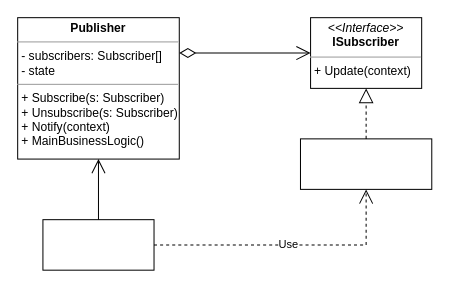
Some shapes in this 449 by 288 pixel diagram are drawn without their labels. Each missing label, with the centre of its shape:
"Client" belongs at point (98, 244).
"ConcreteSubscriber + Update(context)" belongs at point (365, 163).
